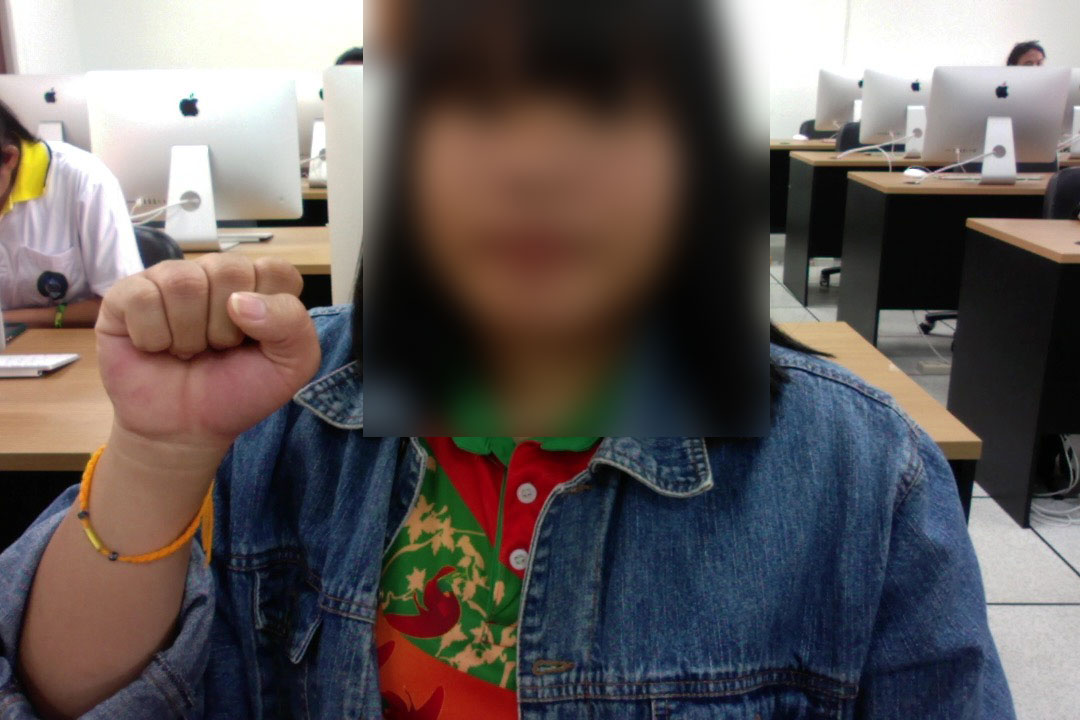sor: (86, 245, 329, 445)
